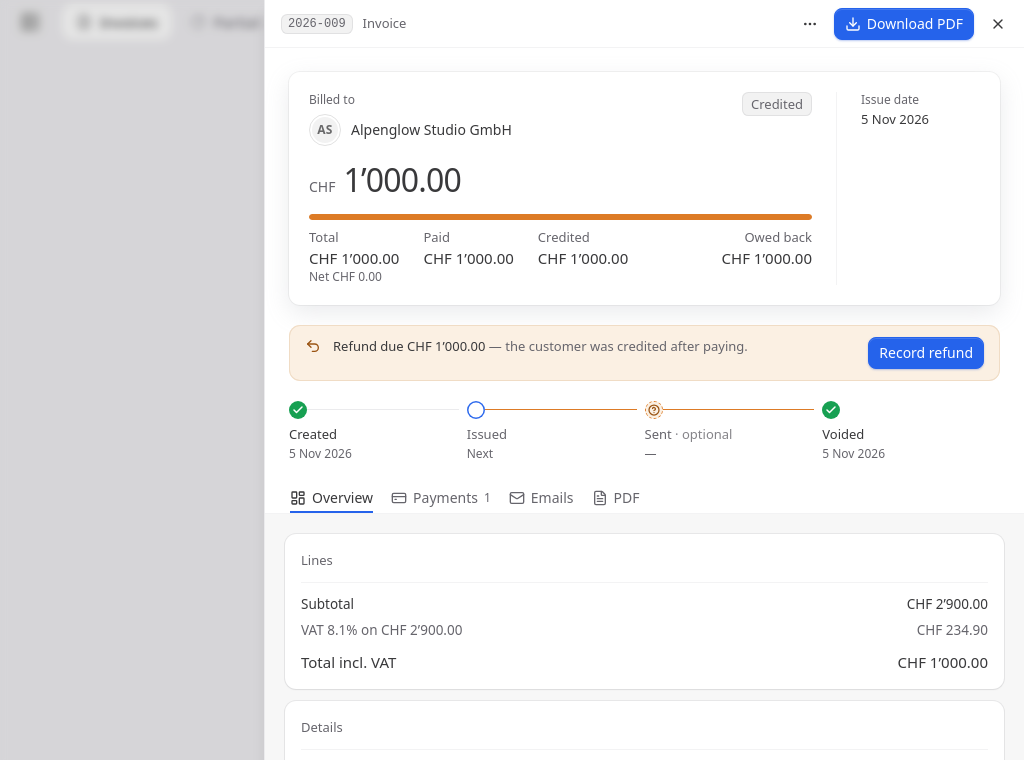
Test case: a refund due is called out in the drawer and recorded from there
Later steps or results of the test are not shown.
Expected: the text "Refund due CHF 1’000.00" is shown, [333,337,485,355]
Click the button "Record refund" at (926, 353), box [868,337,984,369]
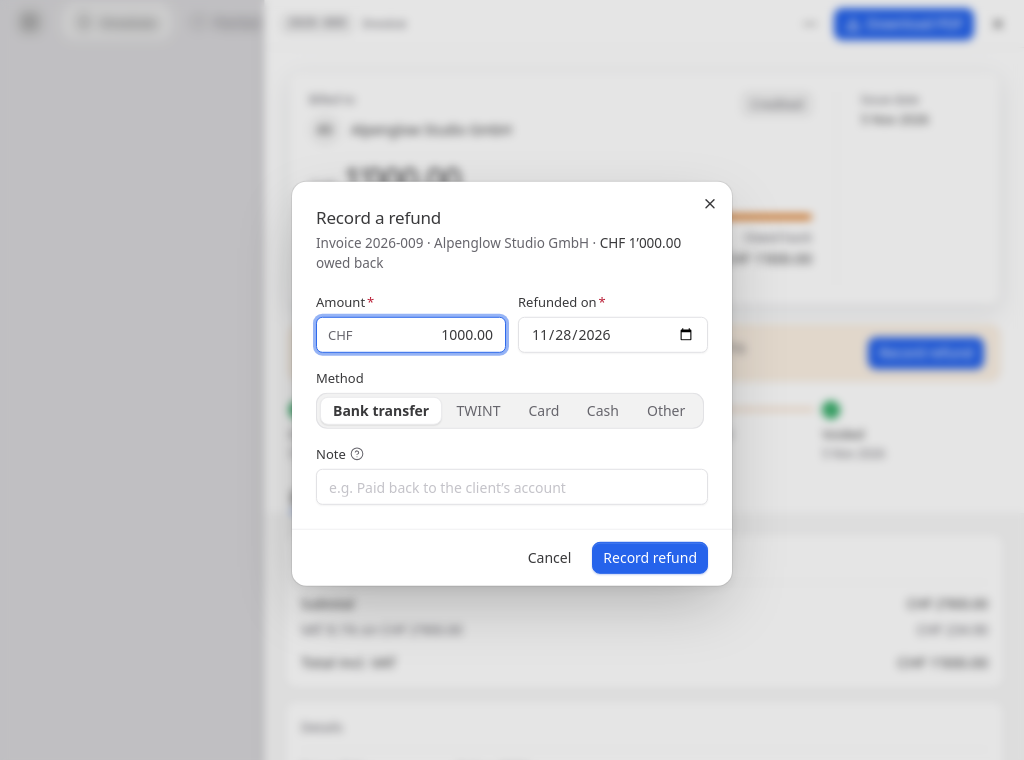
Result: the field labelled "Amount*" holds "1000.00" at [316,317,506,353]
